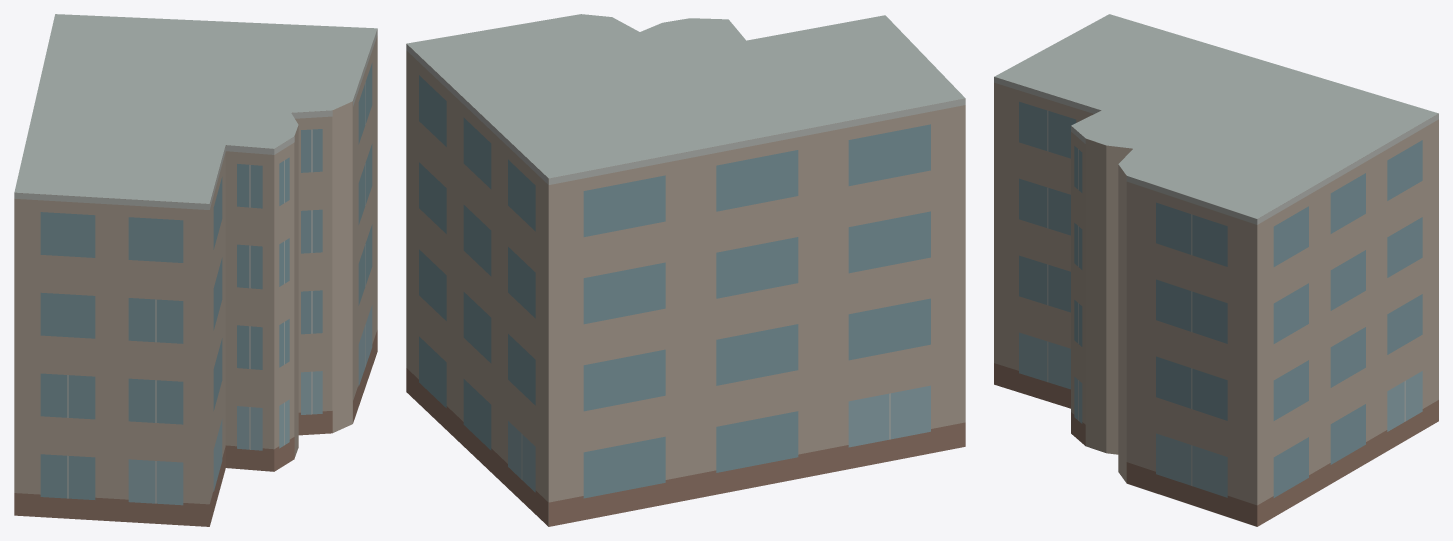
File: survey-upis-33015244.glb
3 views of the same model, side by side, from view 1: azimuth 30°, elevation 25°; view 2: azimuth 150°, elevation 25°; view 3: azimuth 270°, elevation 25° (orthographic). The views are drawn at different scales.
Parts seen in each view (by area): view 1: survey-upis-33015244.tmp; view 2: survey-upis-33015244.tmp; view 3: survey-upis-33015244.tmp.
Part boxes in pixels (<box>): survey-upis-33015244.tmp: <box>14,14,377,526</box>; survey-upis-33015244.tmp: <box>406,14,965,526</box>; survey-upis-33015244.tmp: <box>994,14,1438,526</box>.
Size of the model in its own units: 18.3 by 12.8 by 16.77.
